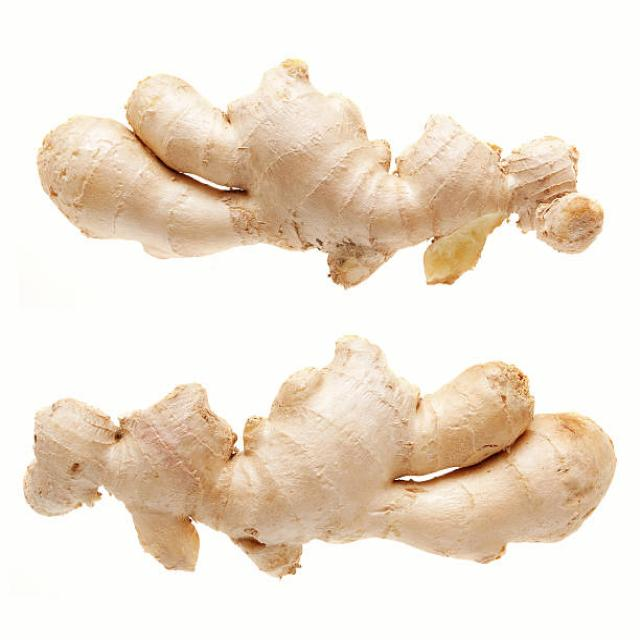ginger-root: (21, 336, 638, 586), (24, 49, 608, 303)
